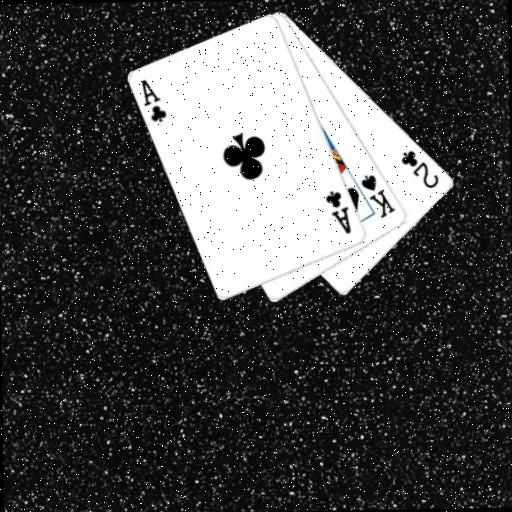2C: (398, 146, 441, 191)
AC: (322, 188, 353, 237), (139, 77, 170, 125)
KS: (358, 171, 398, 220)
